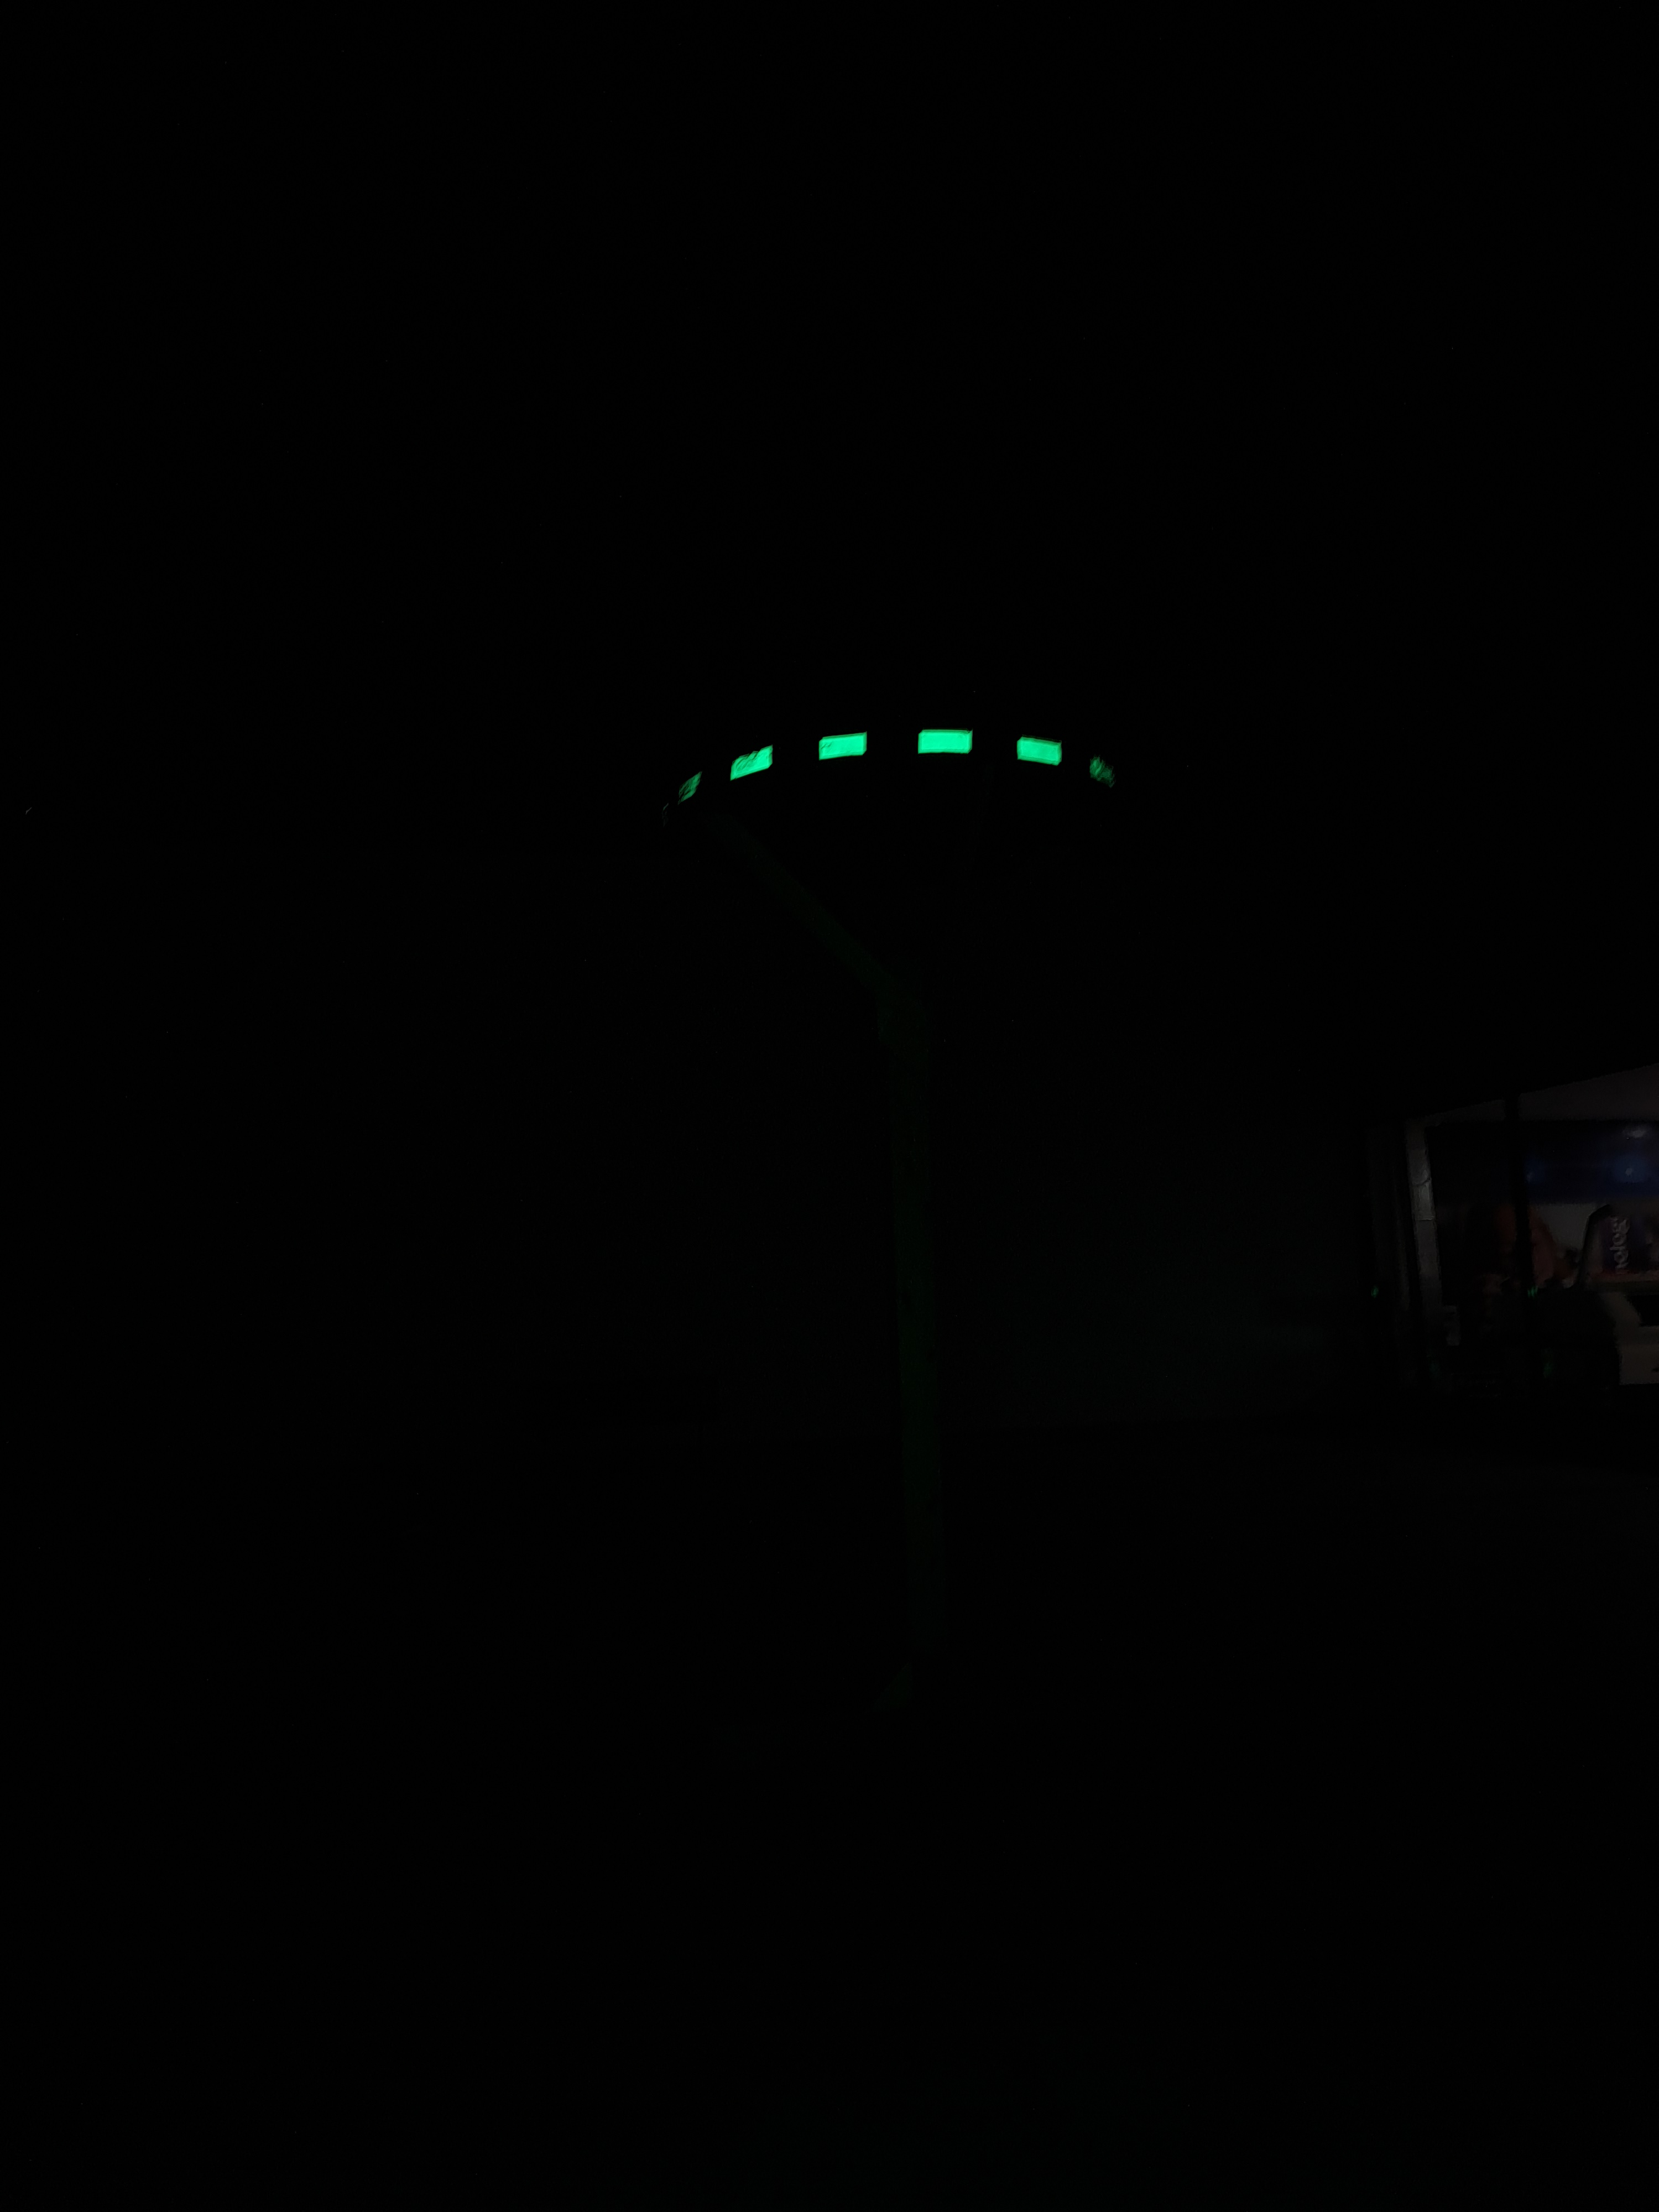hoop: (638, 714, 1157, 836)
